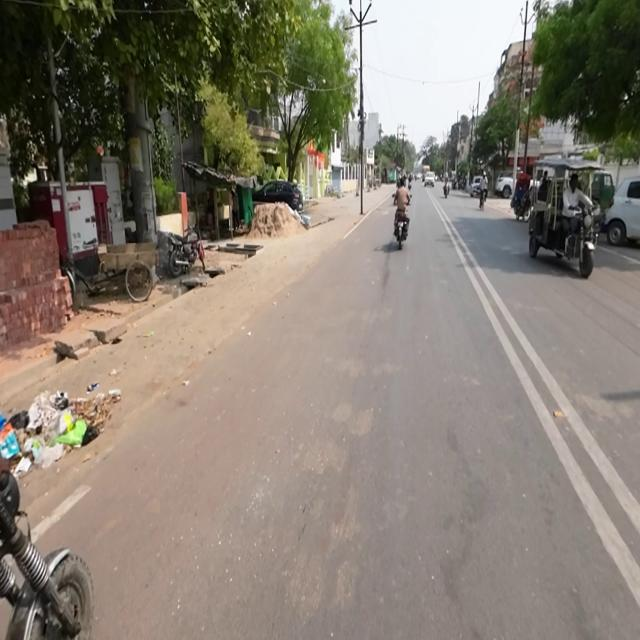Garbage: (0, 392, 94, 471)
